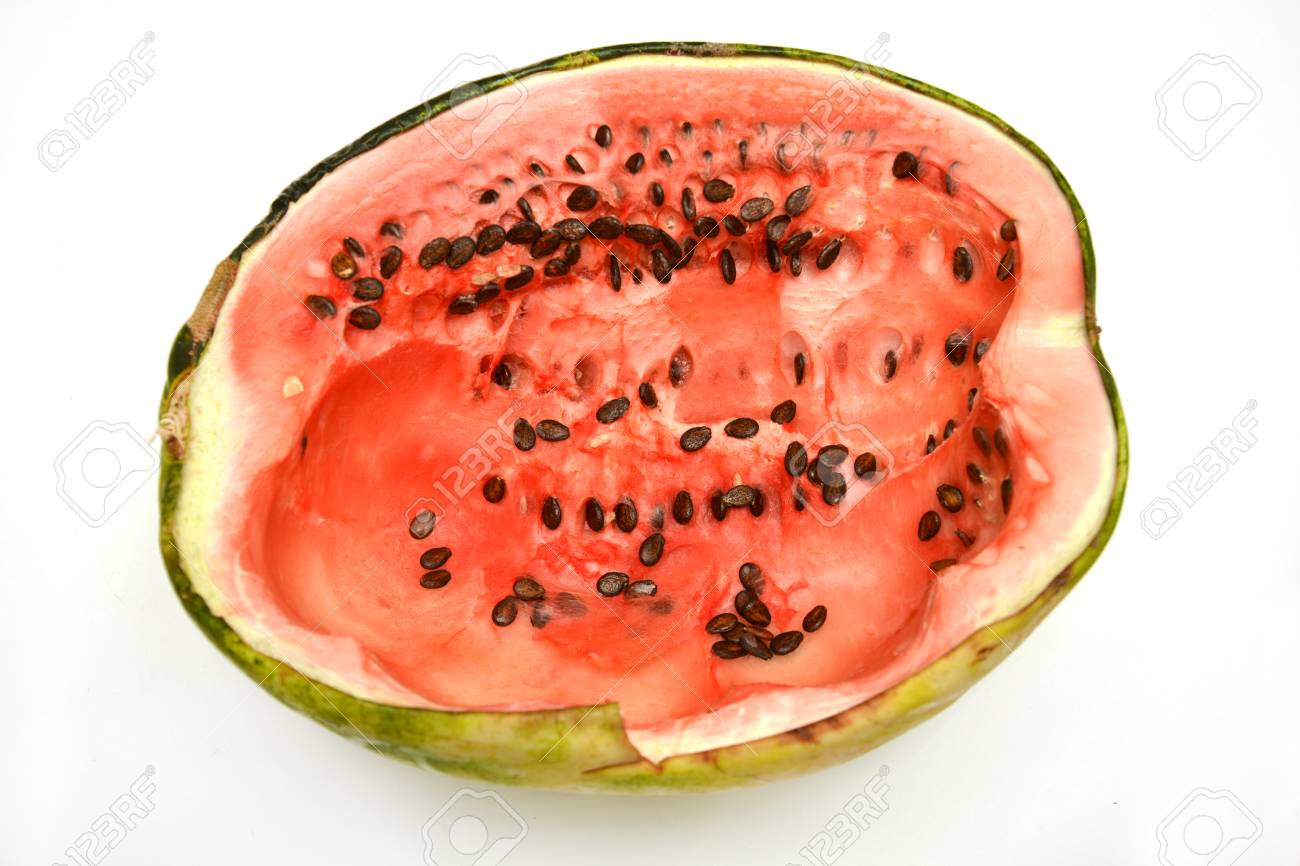damaged_watermelon: (146, 59, 1127, 766)
